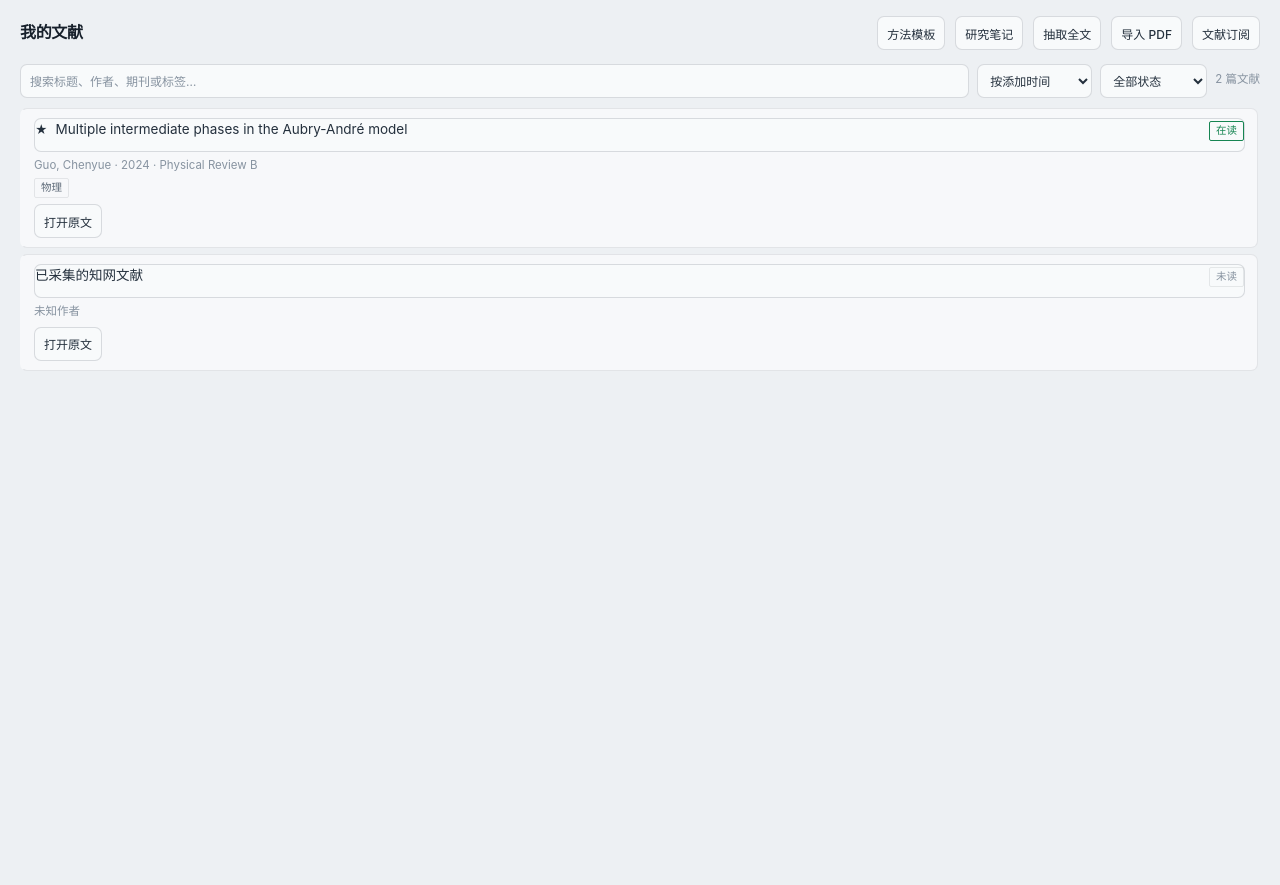
Test: LibraryPage — 我的文献 › 编辑题录并保存后列表立即反映修改
Click the button "已采集的知网文献 未读": x=89, y=275 top-left (34, 264), bottom-right (1245, 298)
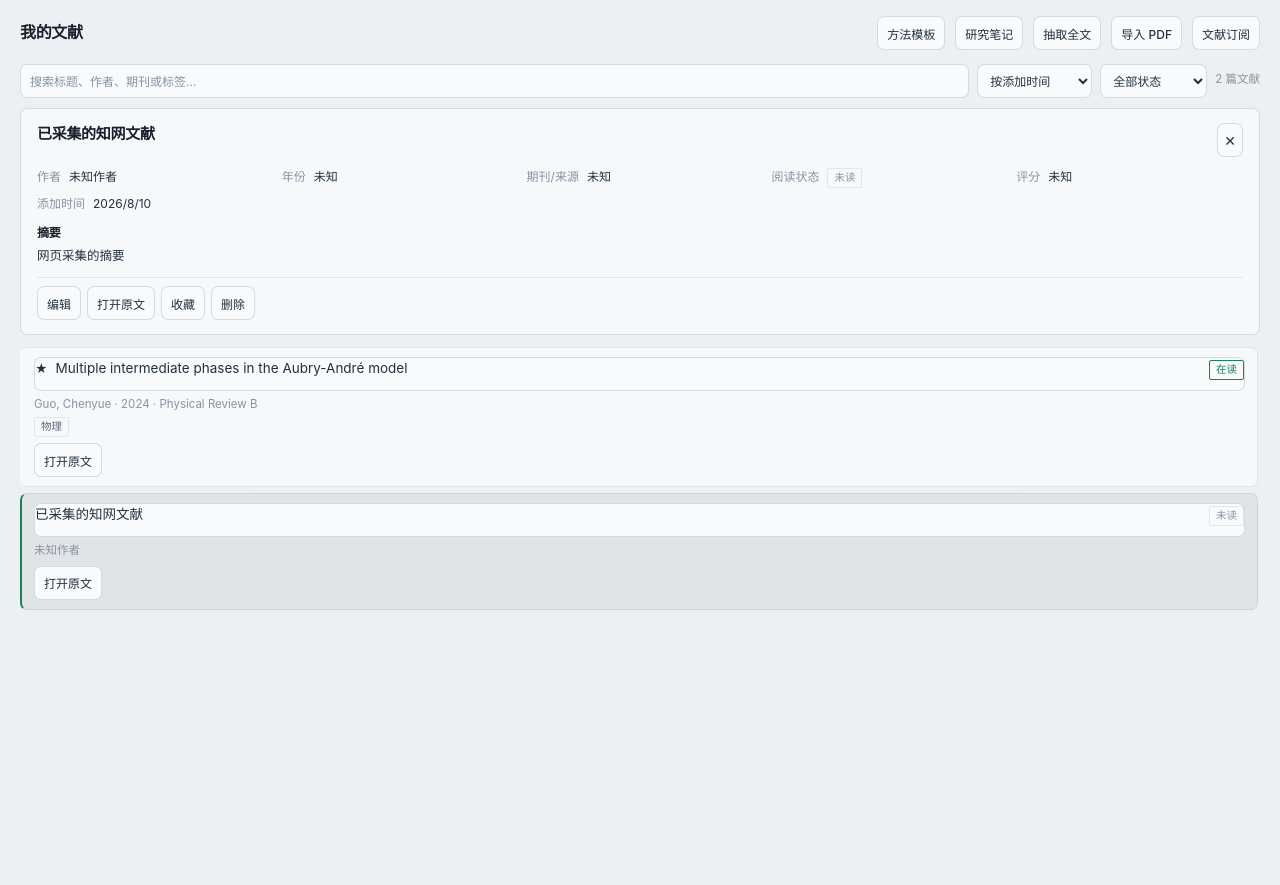
Now the button with test id "library-detail-edit" is shown
Click the button with test id "library-detail-edit": x=59, y=303 top-left (37, 286), bottom-right (81, 320)
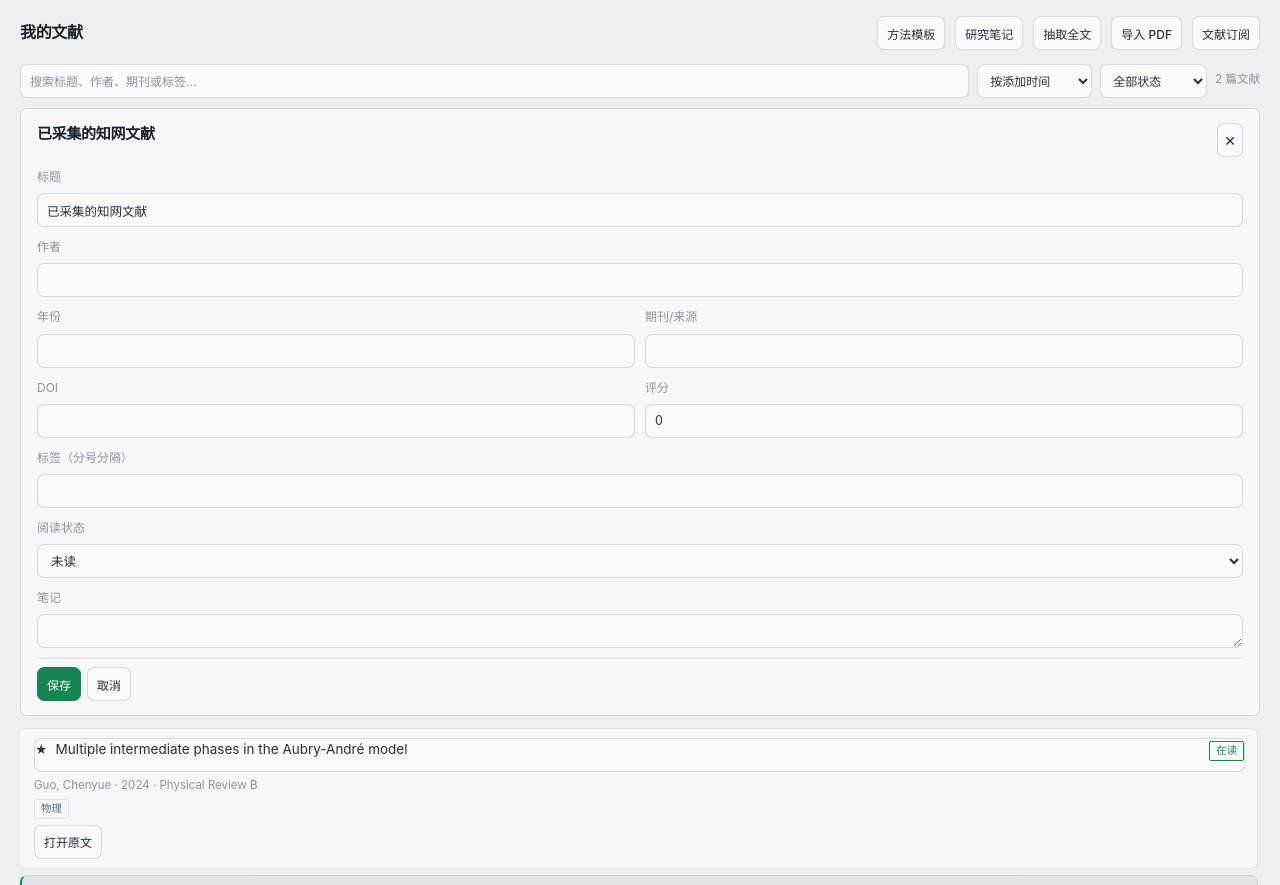
Now the element with test id "library-edit-form" is shown, box top-left (37, 167), bottom-right (1243, 701)
Replace the text in the field with test id "library-edit-title" with "修正后的文献标题": x=640, y=210 top-left (37, 193), bottom-right (1243, 227)
In the field with test id "library-edit-authors": x=640, y=280 top-left (37, 263), bottom-right (1243, 297), type "王五；赵六"
In the field with test id "library-edit-year": x=336, y=351 top-left (37, 334), bottom-right (635, 368), type "2023"
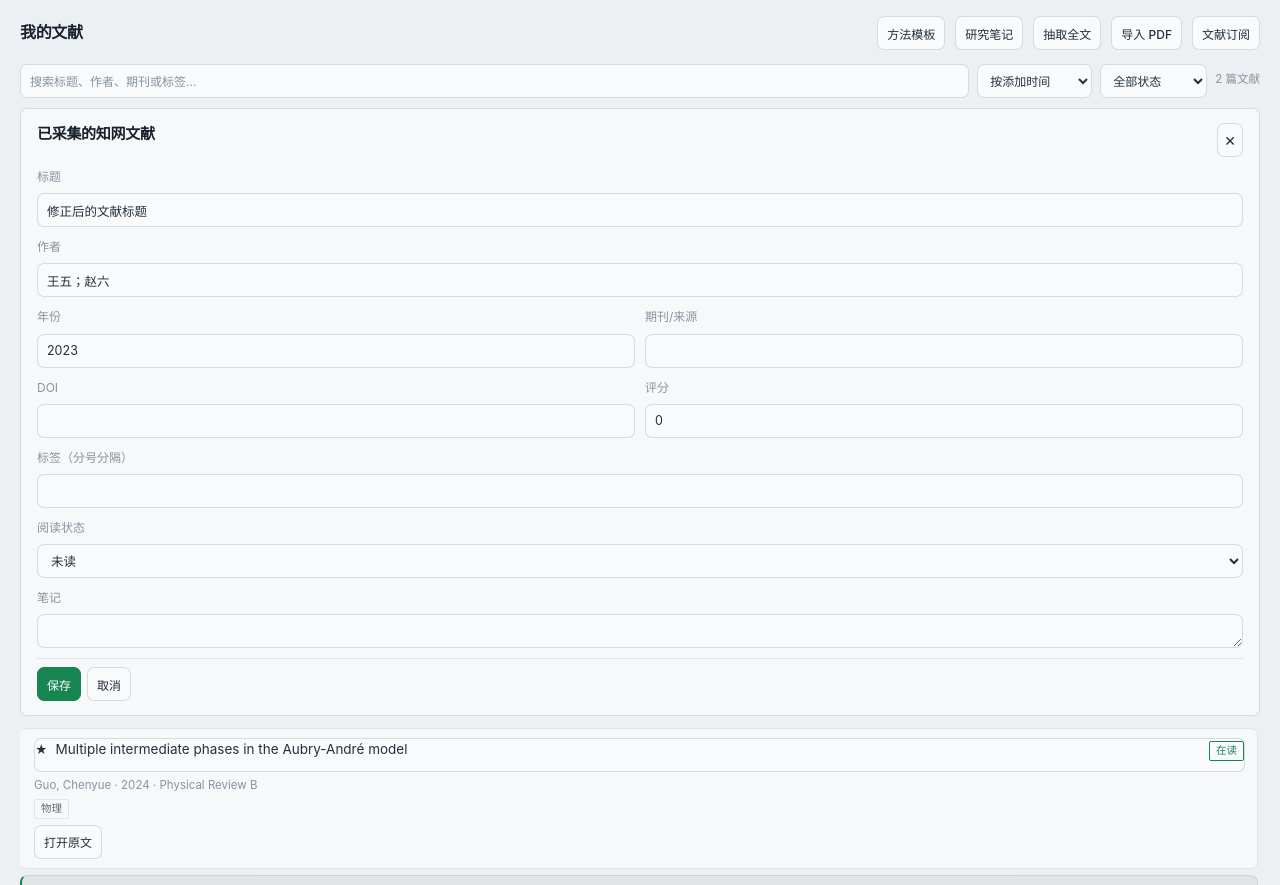
In the field with test id "library-edit-venue": x=944, y=351 top-left (645, 334), bottom-right (1243, 368), type "社会学研究"
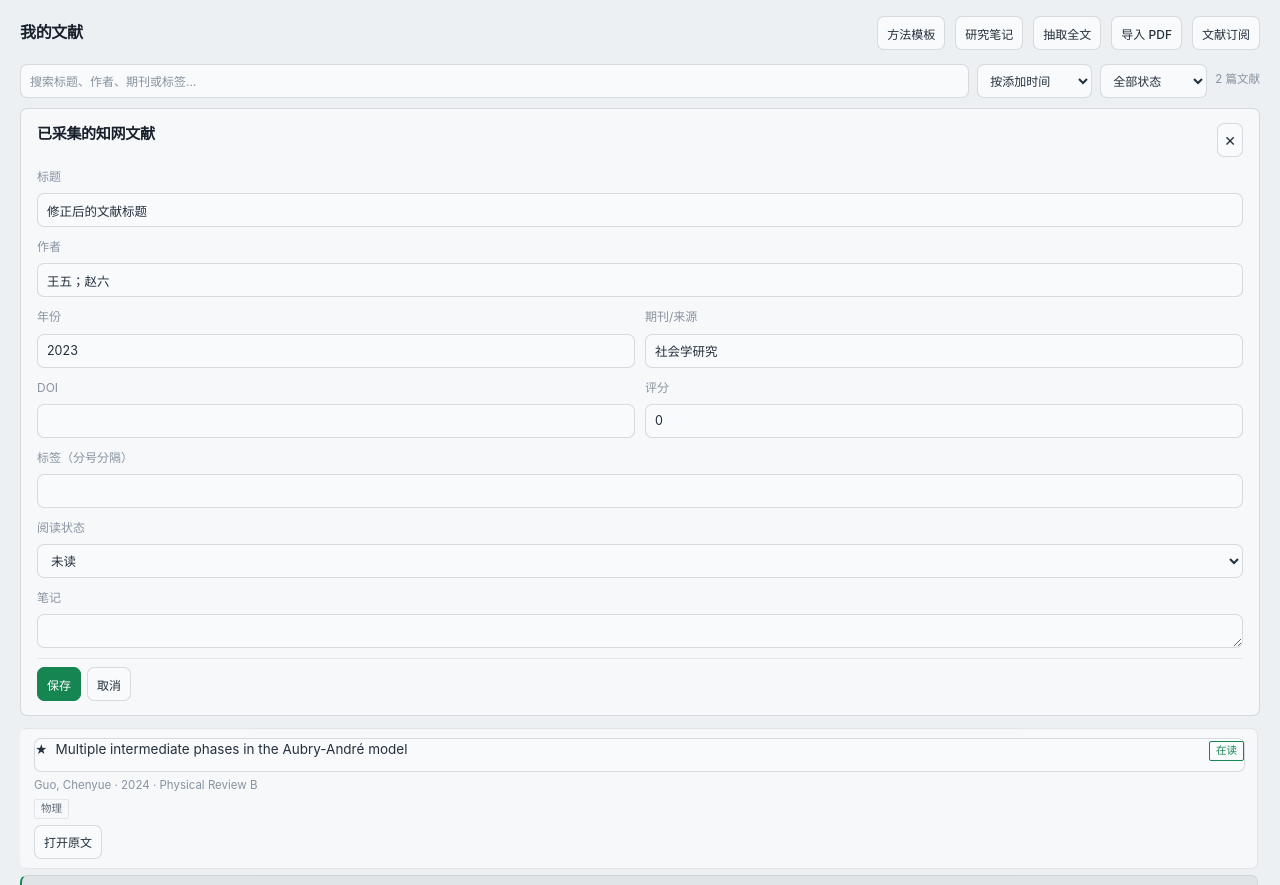
Select "已读" in the dropdown with test id "library-edit-status": x=640, y=561 top-left (37, 544), bottom-right (1243, 578)
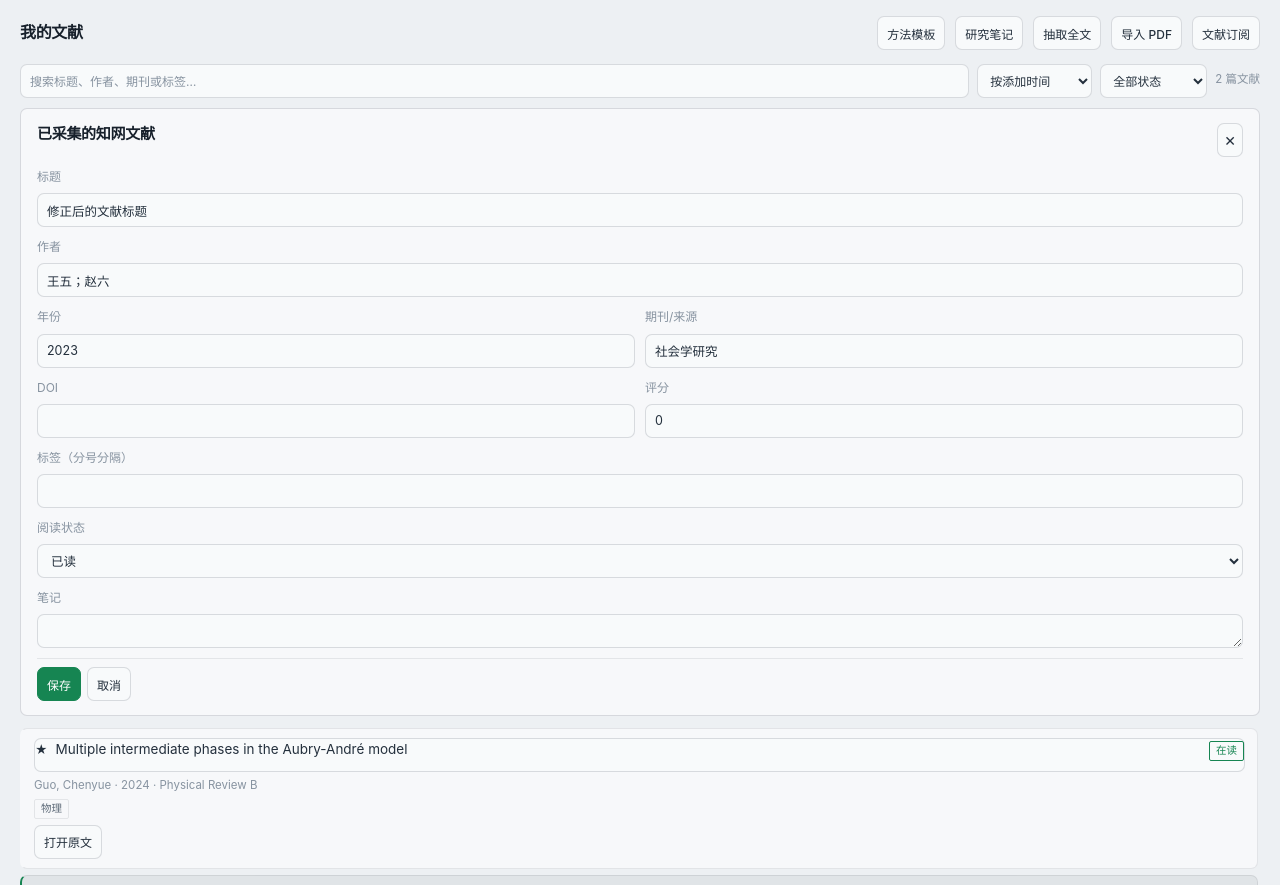
Click the button with test id "library-edit-save": x=59, y=684 top-left (37, 667), bottom-right (81, 701)
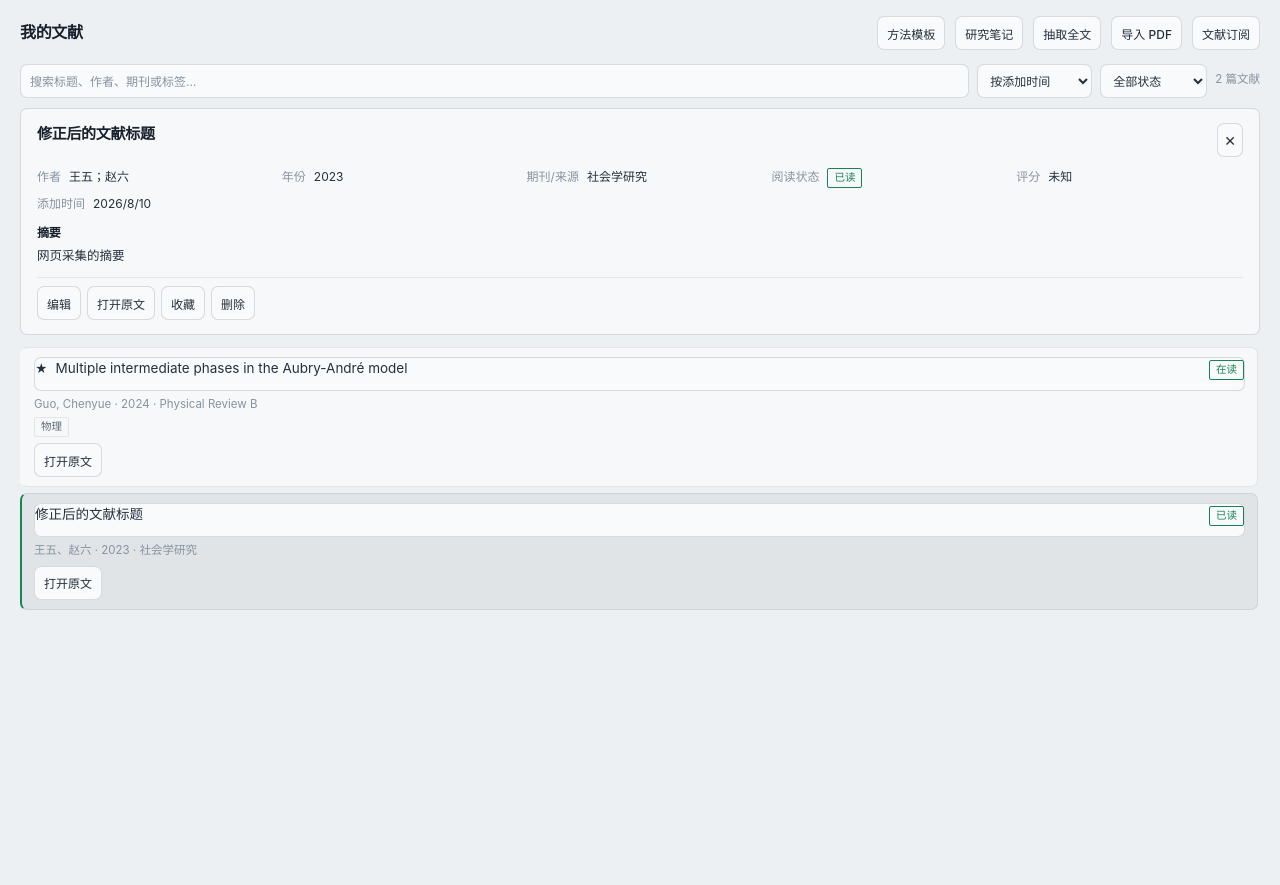
Now the text "社会学研究" is shown, box top-left (587, 167), bottom-right (647, 188)
